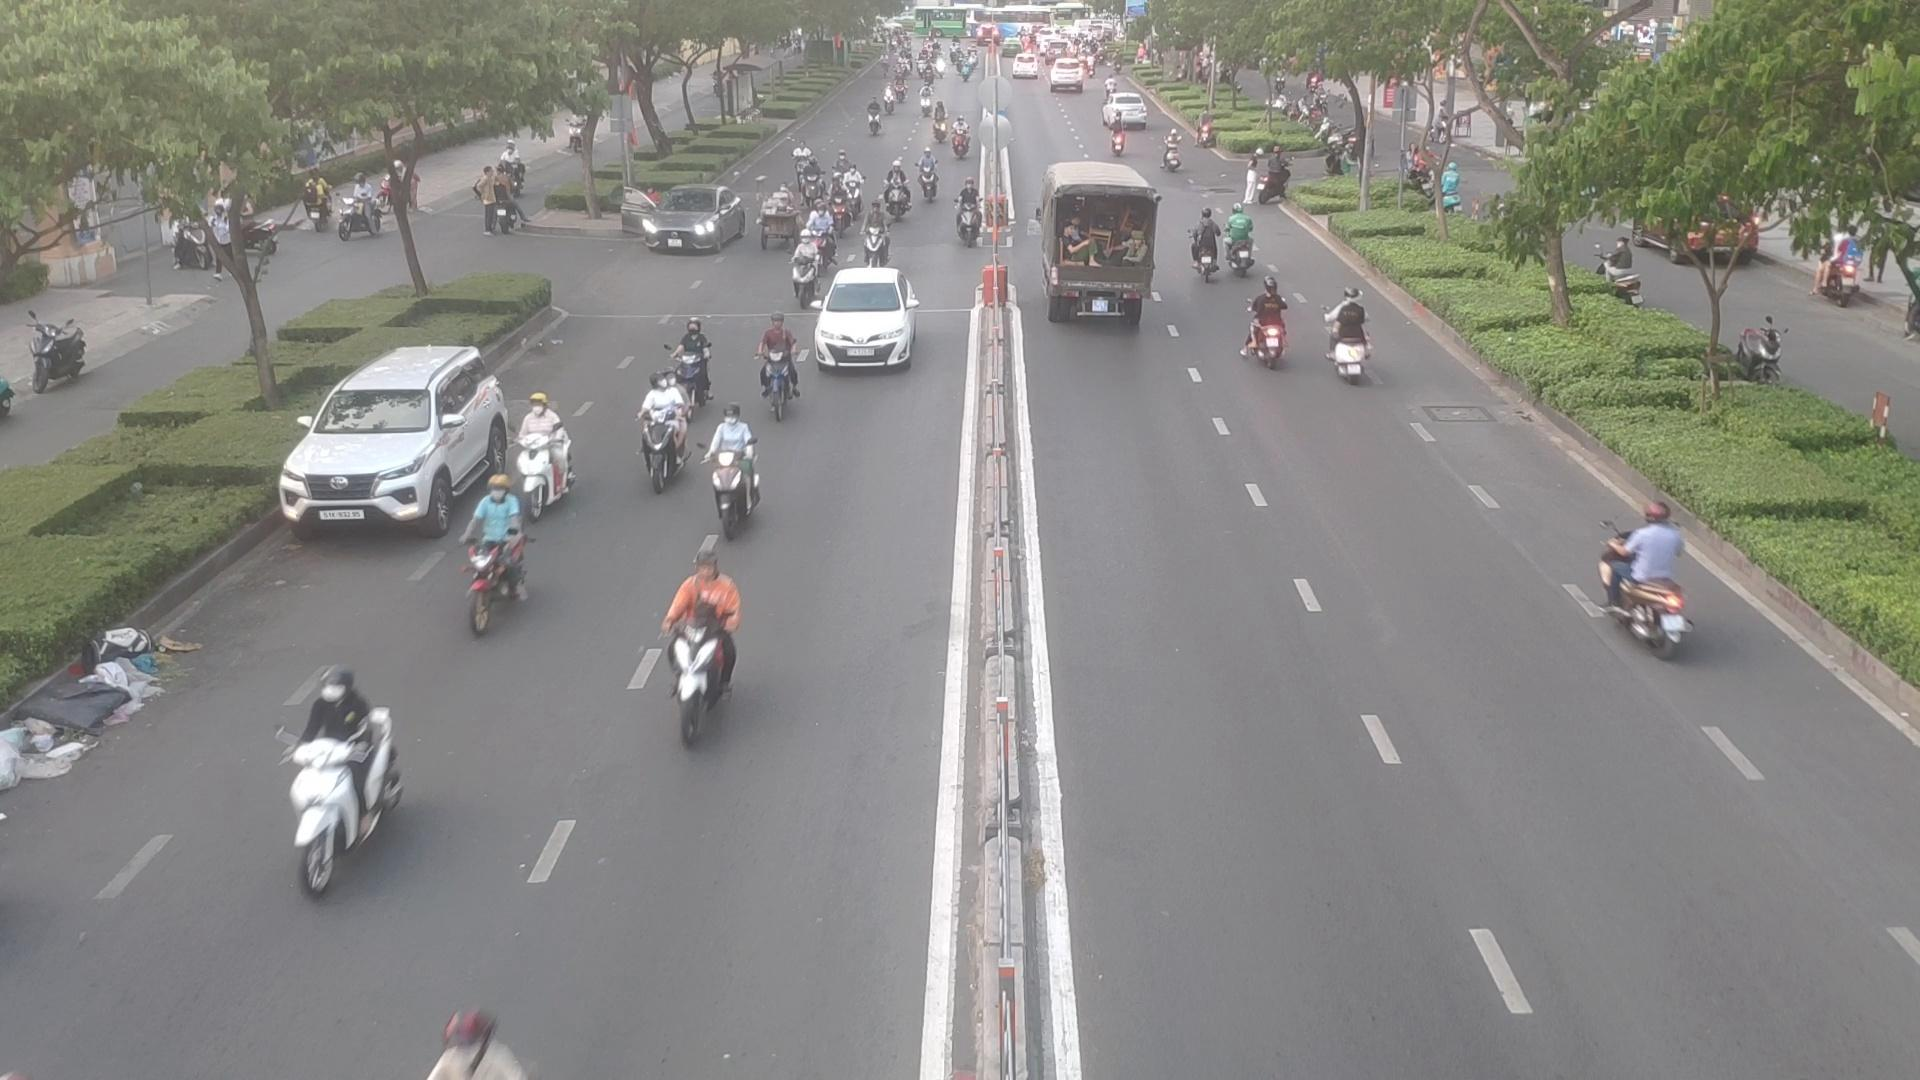car: (287, 342, 522, 531), (1039, 160, 1160, 323), (810, 272, 923, 375), (620, 189, 754, 257)
motorbike: (280, 676, 417, 881), (638, 558, 746, 752), (1596, 505, 1698, 655), (440, 480, 534, 629), (698, 415, 760, 525), (521, 407, 583, 516), (636, 382, 688, 487), (756, 323, 814, 417), (1325, 289, 1378, 380), (661, 323, 717, 407), (1244, 287, 1295, 371), (1187, 206, 1221, 284), (952, 187, 992, 251), (793, 244, 832, 306), (1230, 203, 1253, 284), (880, 173, 910, 223), (918, 153, 945, 198), (1100, 121, 1129, 156)
